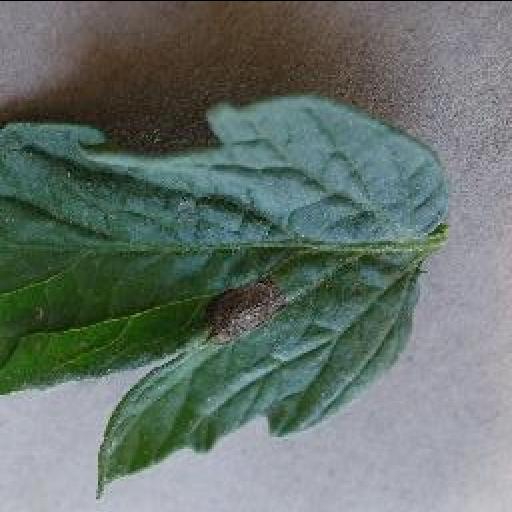disease_tomato: (0, 88, 440, 498)
